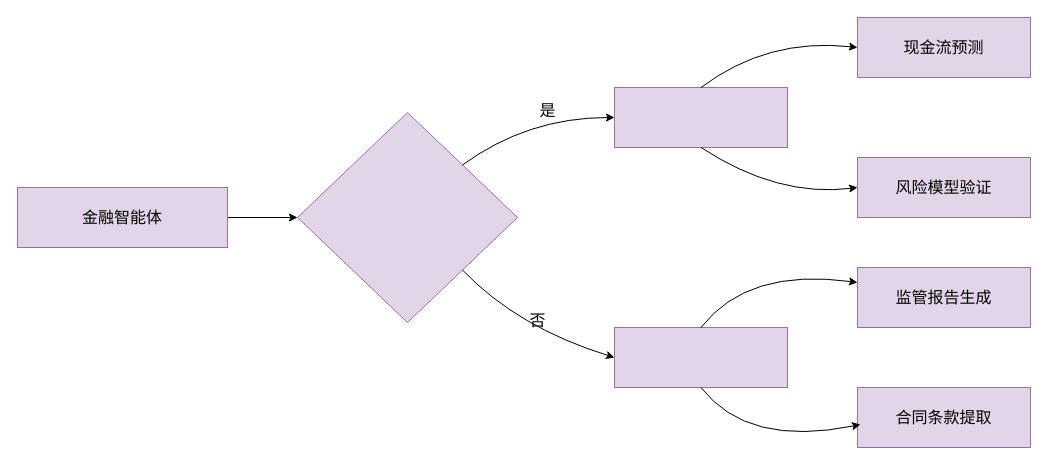
This 1048x465 diagram has some shape labels left out. The centre of each missing label's shape, as x and y in pixels:
"指令大模型" belongs at (x=701, y=357).
"推理大模型" belongs at (x=701, y=117).
"是否涉及数值计算？" belongs at (x=407, y=217).
